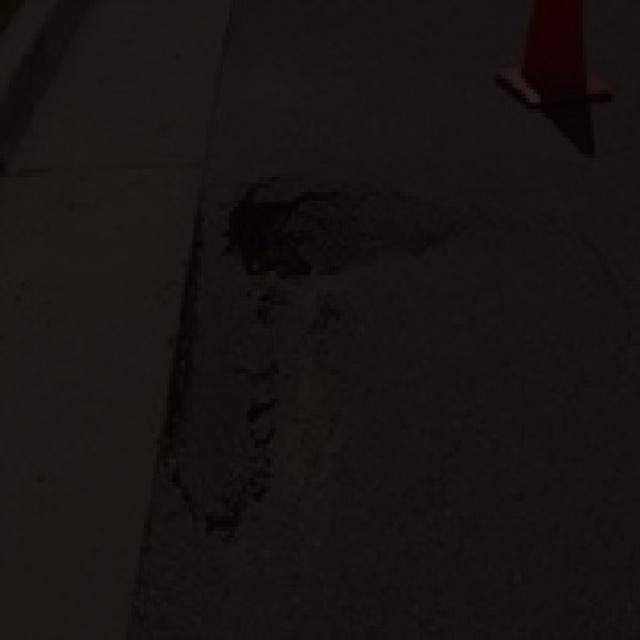Pothole: (175, 309, 379, 560), (198, 162, 467, 266)
